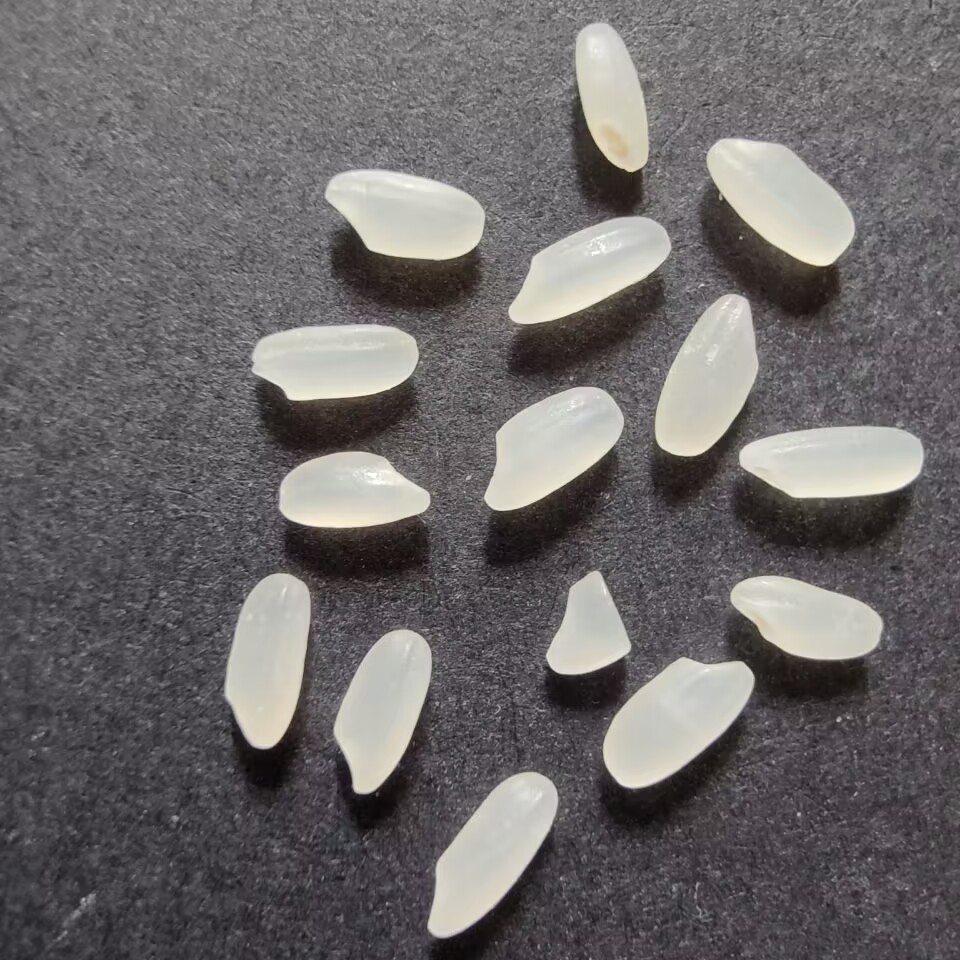broken: (535, 565, 636, 683)
rice: (422, 767, 564, 942), (598, 651, 760, 791), (701, 135, 860, 269), (478, 381, 628, 515), (502, 215, 673, 326), (652, 288, 762, 459), (331, 626, 436, 800), (218, 570, 314, 754), (315, 168, 489, 265), (245, 320, 422, 405), (735, 423, 926, 501), (726, 573, 886, 664), (270, 449, 435, 534), (569, 18, 653, 175)
